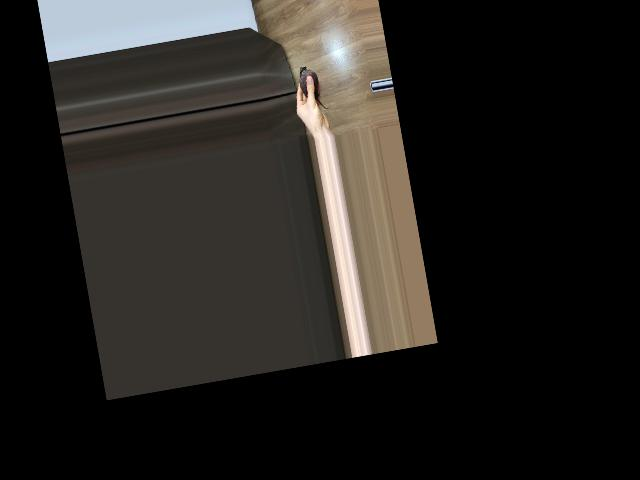beet: (296, 62, 329, 112)
